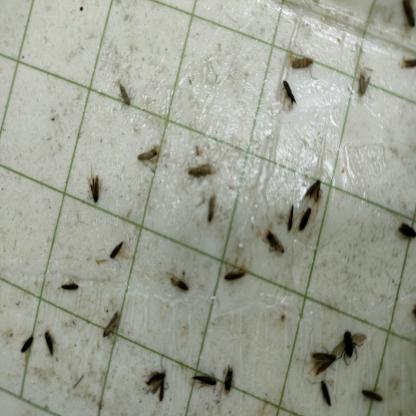prays_oleae: (333, 323, 370, 372), (286, 45, 324, 90), (142, 364, 171, 408), (312, 336, 340, 377), (359, 377, 387, 415), (263, 223, 287, 266), (132, 143, 163, 172), (106, 237, 132, 270), (222, 261, 248, 294), (186, 156, 216, 184), (278, 74, 300, 112), (116, 79, 137, 116), (398, 45, 416, 87), (96, 314, 127, 338), (356, 64, 374, 104), (307, 166, 324, 207), (188, 370, 218, 393), (86, 171, 104, 209), (397, 208, 415, 244), (220, 364, 237, 400), (59, 272, 80, 299), (396, 0, 416, 28), (299, 201, 314, 236), (171, 274, 202, 290), (206, 191, 220, 226), (19, 330, 38, 355), (316, 378, 332, 407), (43, 327, 56, 358), (284, 201, 294, 239)
